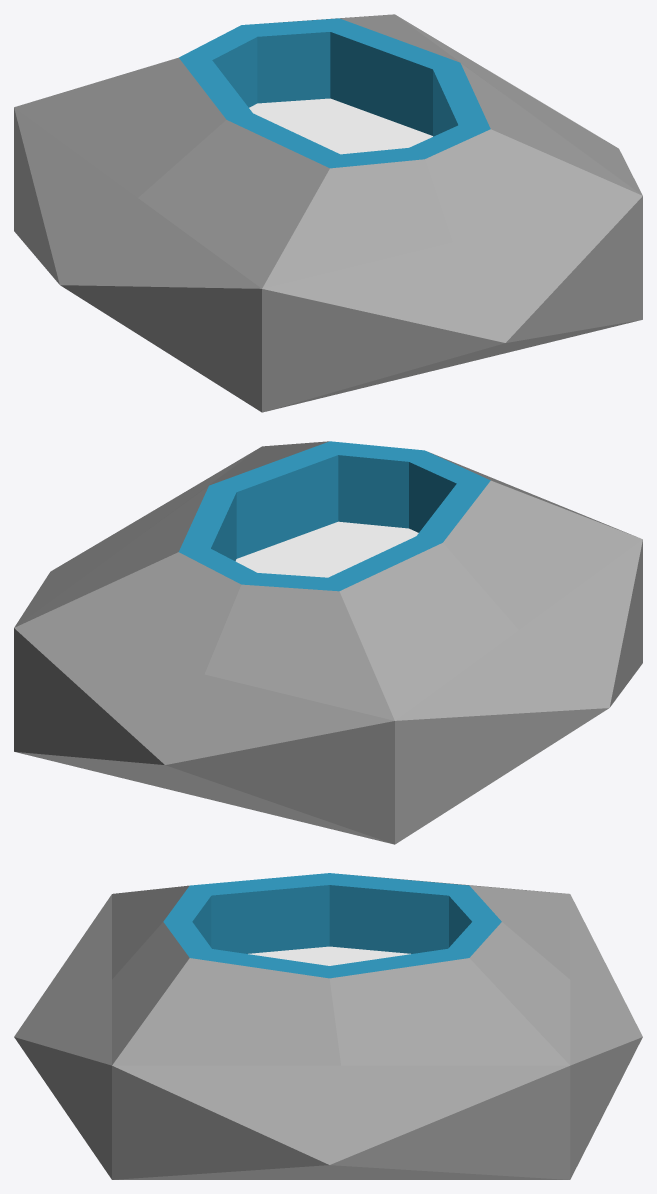
Rendered from Data Disc.fbx.
3 views of the same model, one above another, from view 1: azimuth 30°, elevation 25°; view 2: azimuth 150°, elevation 25°; view 3: azimuth 270°, elevation 25° (orthographic). The views are drawn at different scales.
Parts seen in each view (by area): view 1: Data Disc; view 2: Data Disc; view 3: Data Disc.
Boxes of the visible parts, x1,y1,x2,y2 form: Data Disc: (14, 14, 642, 412); Data Disc: (14, 441, 642, 844); Data Disc: (14, 873, 642, 1179).
Size of the model in its own units: 36.01 by 11.48 by 37.98.
